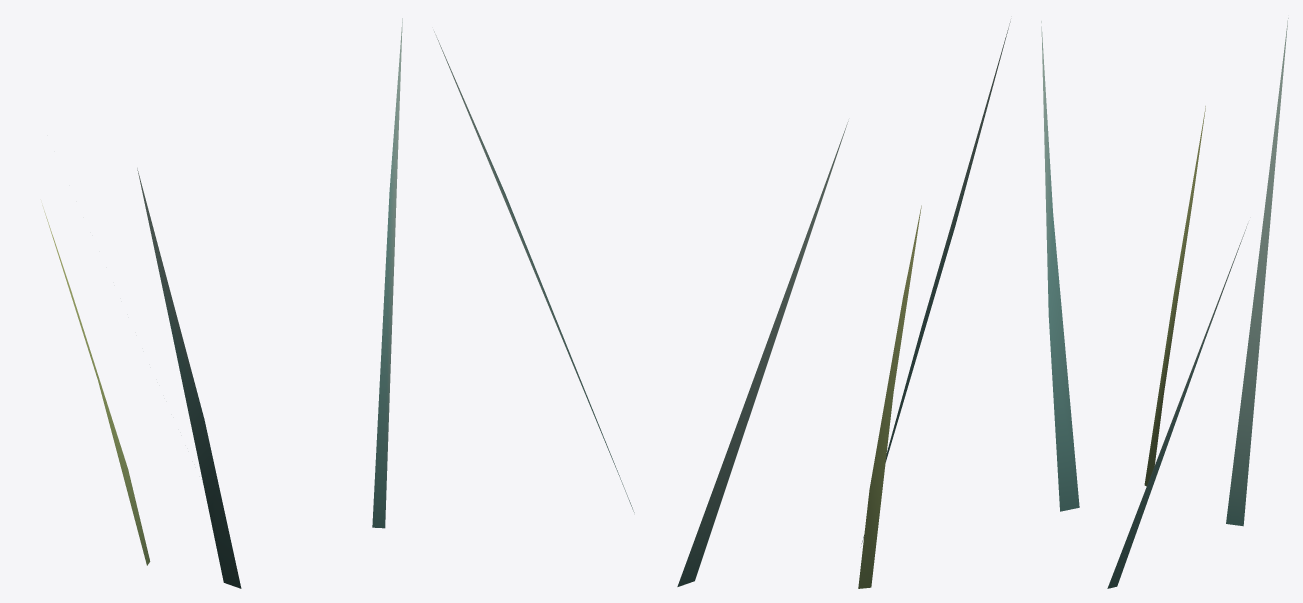
The model's file is BlueFescue_LOD3.glb.
3 renders of one model, left to right at view 1: azimuth 30°, elevation 25°; view 2: azimuth 150°, elevation 25°; view 3: azimuth 270°, elevation 25°, orthographic. The views are drawn at different scales.
Visible parts, largest first — view 1: BlueFescue_LOD3; view 2: BlueFescue_LOD3; view 3: BlueFescue_LOD3.
Boxes of the visible parts, x1=… form: BlueFescue_LOD3: x1=42, y1=18, x2=402, y2=588; BlueFescue_LOD3: x1=434, y1=21, x2=1010, y2=588; BlueFescue_LOD3: x1=1041, y1=18, x2=1288, y2=588.
Bounding box in the file's own units: 0.1779 × 0.2057 × 0.103.
